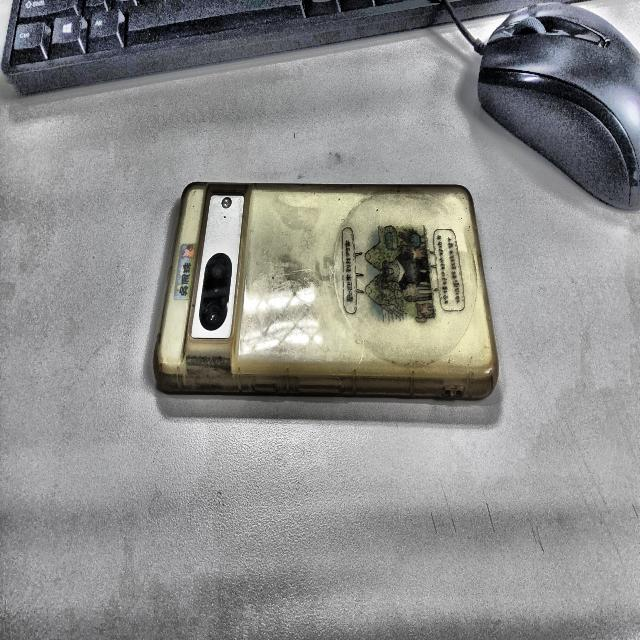Keyboard: (2, 0, 451, 95)
MOUSE: (477, 3, 640, 210)
PHONE: (154, 184, 497, 398)
